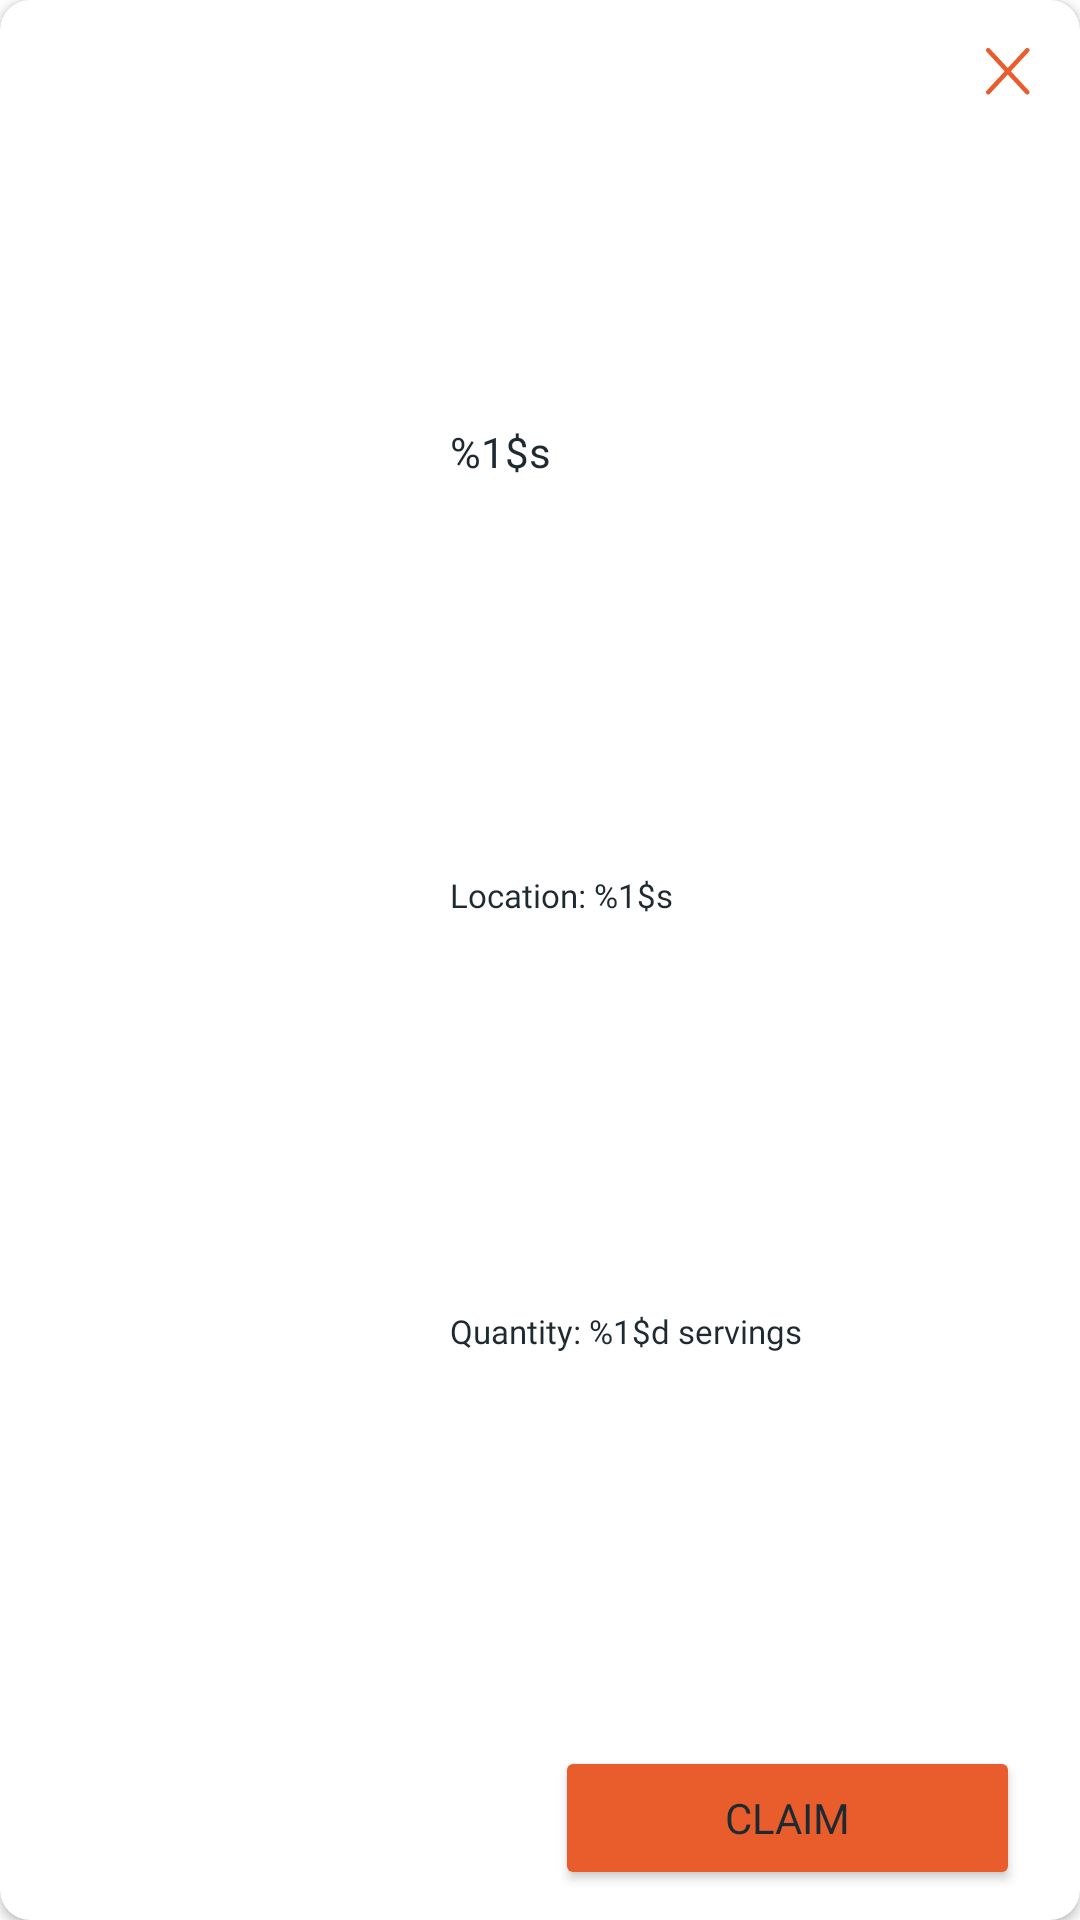

Icons on this 1080 x 1920 Android screen, each with its box as (x1, y1, x2, y2):
Close: (986, 48, 1030, 95)
